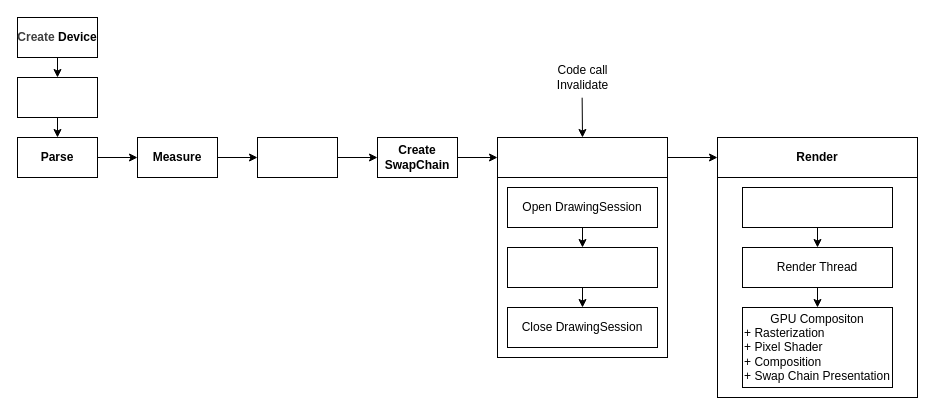
Image size: 935x415. Some labels were removed from this diagram. Here are the shapes that lost their labels. From the top down, the centre of each, then its label:
point (57, 97): Create Resources
point (297, 157): Arrange
point (582, 157): Draw
point (817, 207): Render Commands Generation
point (582, 267): Write Draw command
